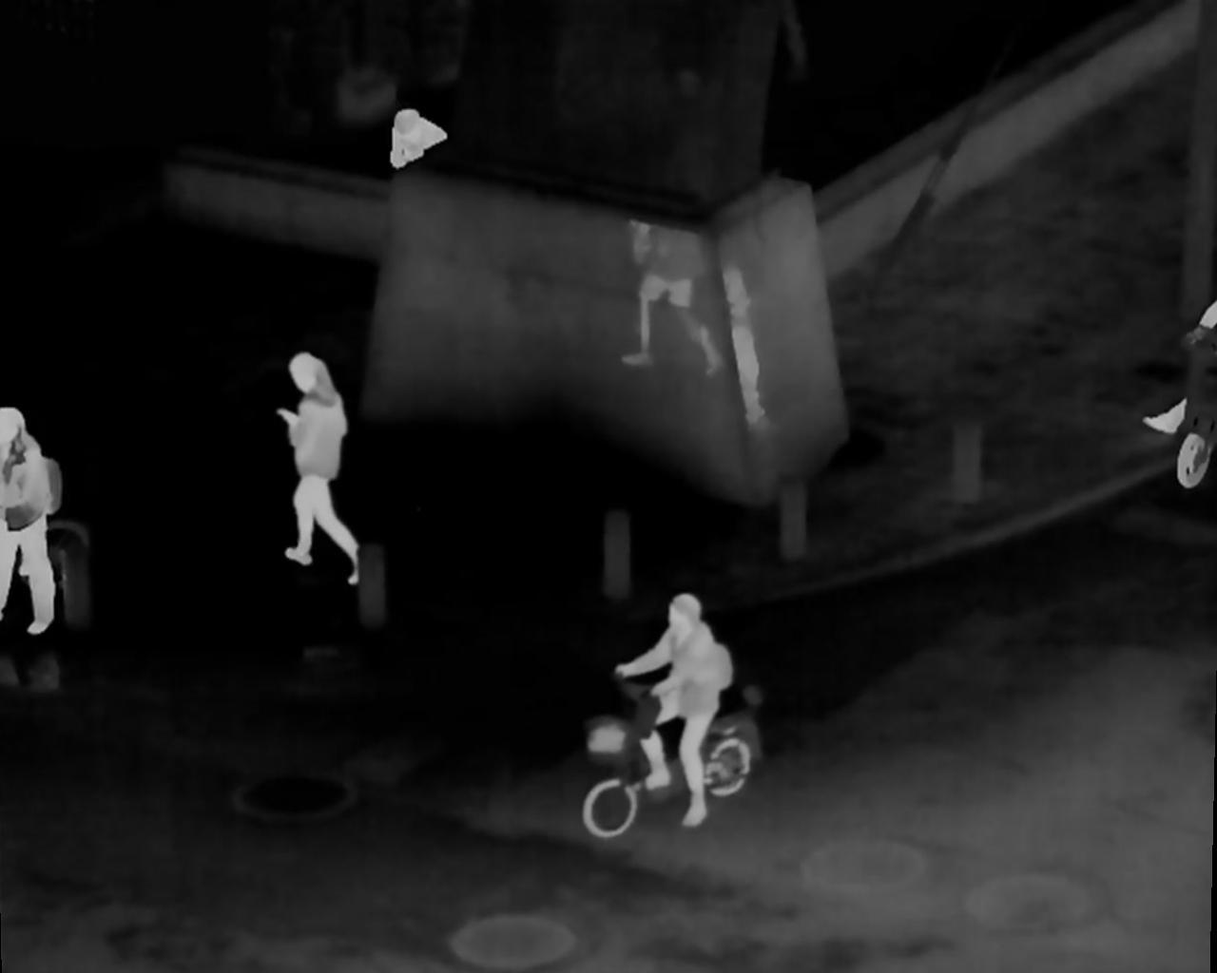person: (609, 586, 729, 831), (265, 349, 358, 591), (377, 102, 459, 164)
